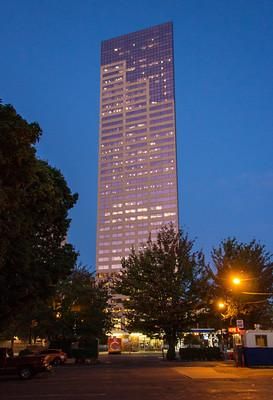building: (96, 16, 184, 322)
